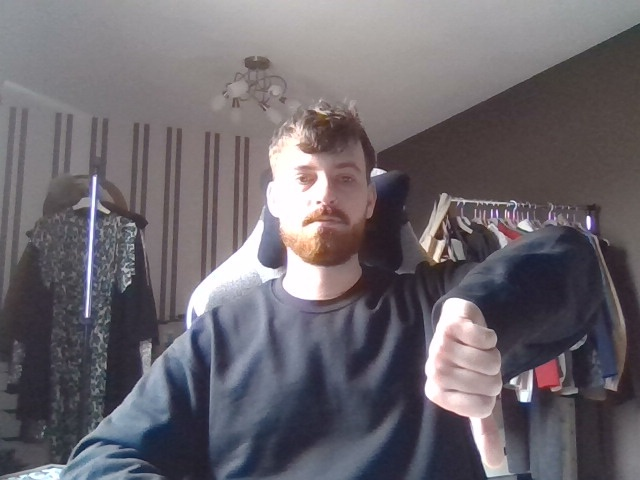Thumbs Down: (415, 268, 511, 442)
